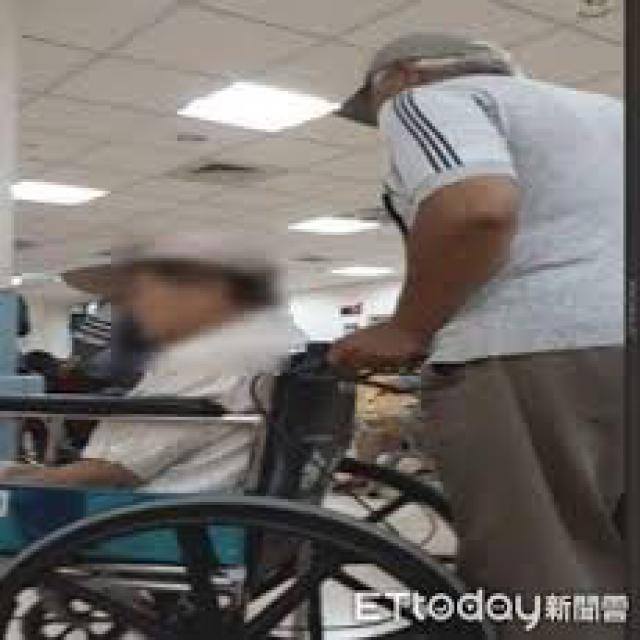wheelchairs: (0, 326, 491, 638)
